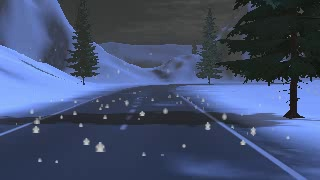Lane: (0, 83, 303, 179)
